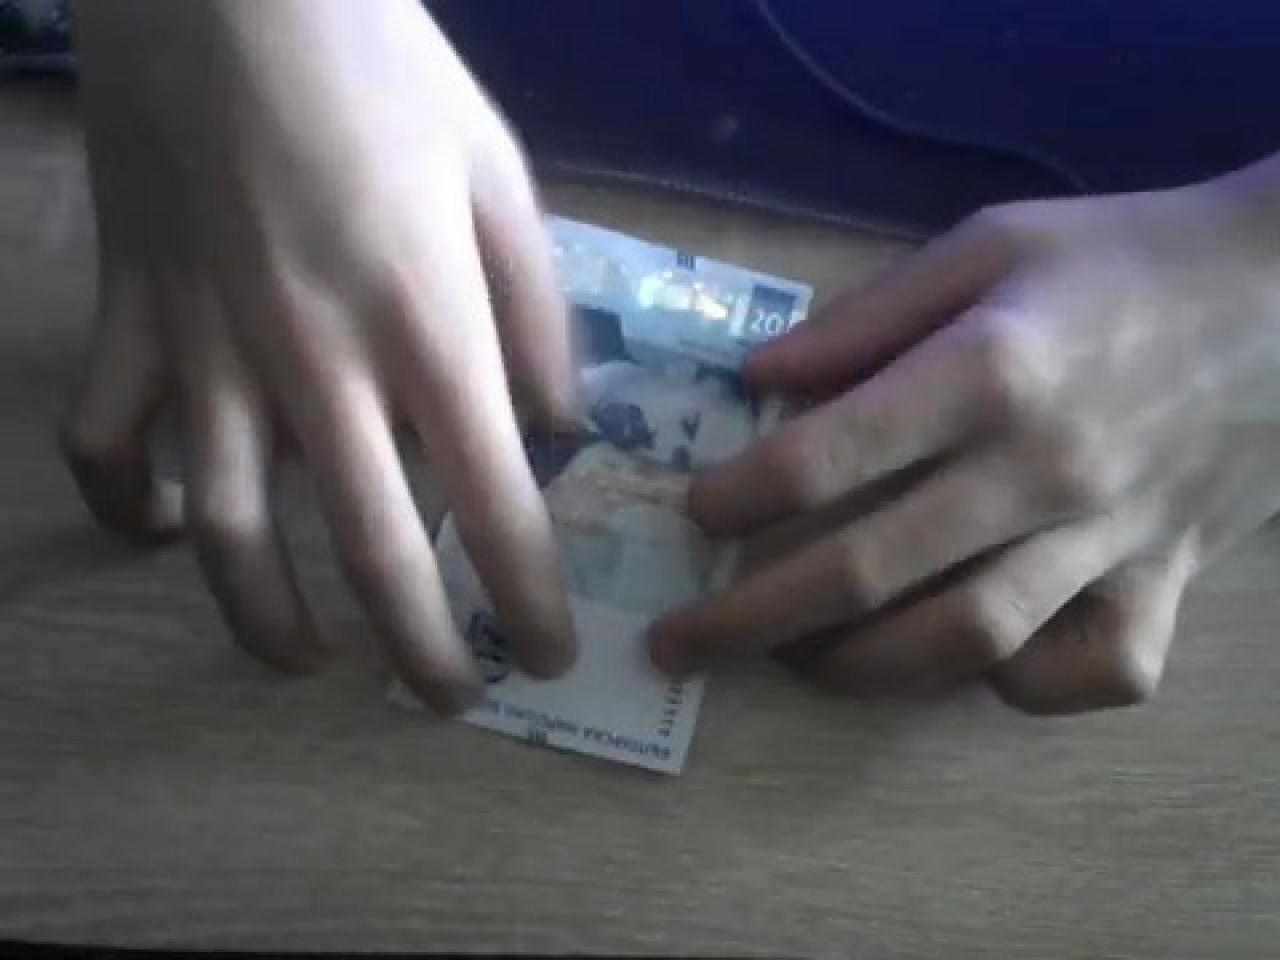20leva: (544, 221, 749, 629)
